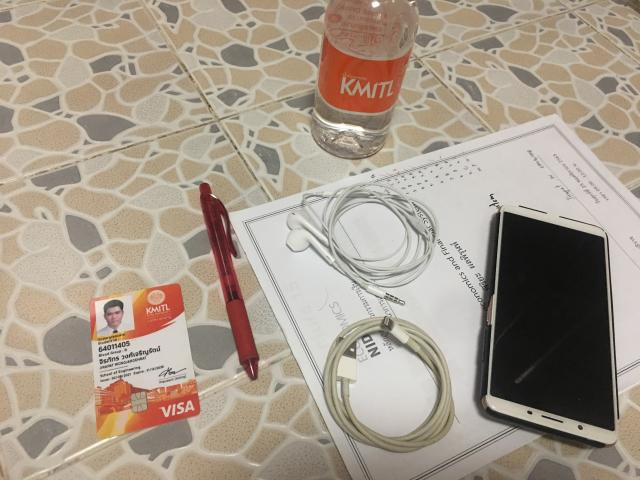Mobile phone: (481, 205, 619, 448)
Pen: (200, 182, 259, 380)
bottle: (311, 0, 419, 159)
paper: (230, 115, 640, 479)
wire: (286, 182, 438, 304), (324, 316, 454, 452)
